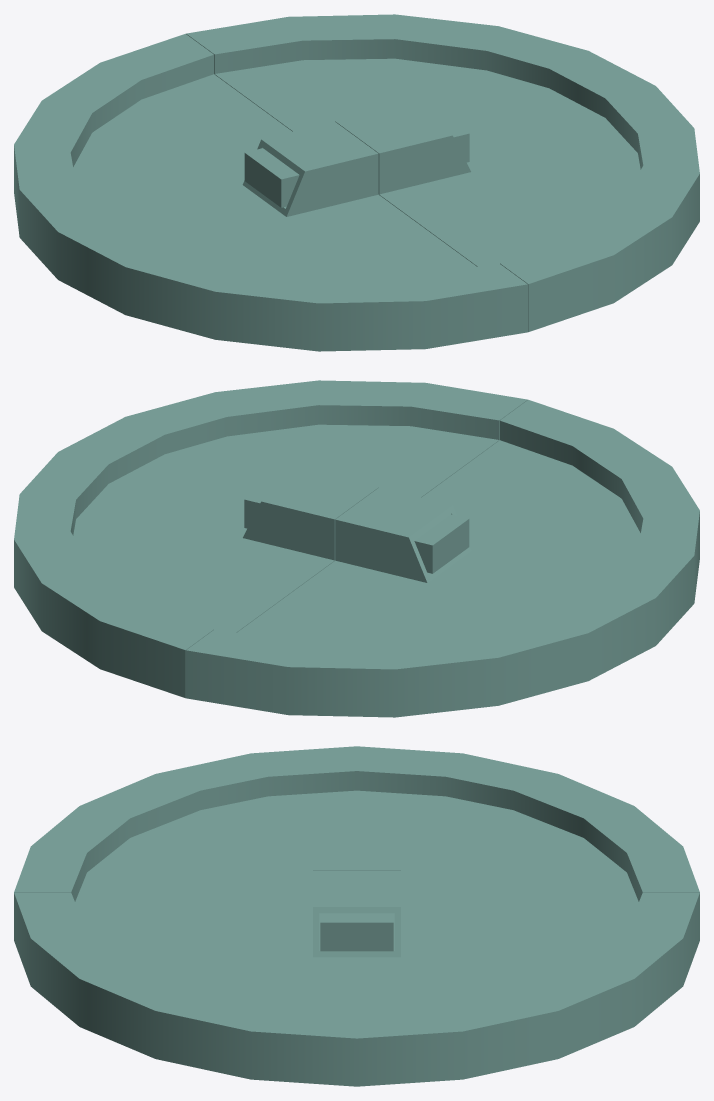
The model's file is Door_LP.fbx.
The picture shows the model from 3 angles, top to bottom: view 1: azimuth 30°, elevation 25°; view 2: azimuth 150°, elevation 25°; view 3: azimuth 270°, elevation 25°; orthographic projection.
Parts seen in each view (by area): view 1: Door_L1, Door_R1, Key1; view 2: Door_L1, Door_R1, Key1; view 3: Door_R1, Door_L1, Key1.
Part boxes in pixels (box(x1,y1,x2,y2)): Door_L1: box(14, 33, 527, 351); Door_R1: box(186, 14, 699, 332); Key1: box(244, 106, 469, 207); Door_L1: box(186, 399, 699, 717); Door_R1: box(14, 380, 527, 698); Key1: box(244, 472, 469, 573); Door_R1: box(14, 871, 699, 1086); Door_L1: box(14, 746, 699, 911); Key1: box(320, 830, 393, 951).
Bounding box in the file's own units: 317 × 35.26 × 315.
